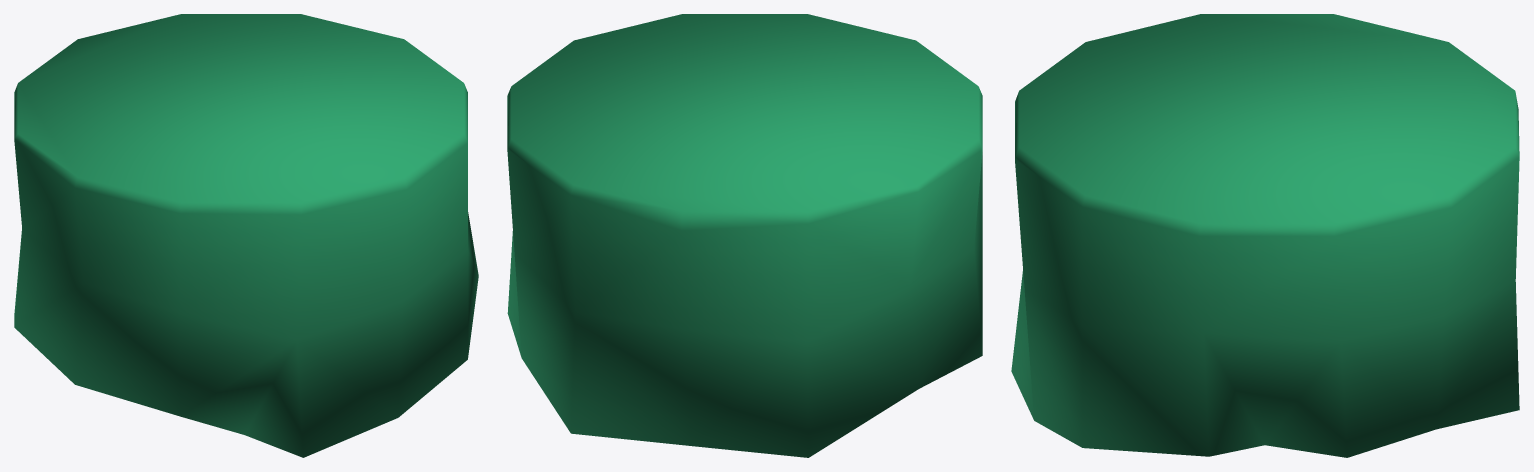
Rendered from SideTableRound_TableCloth.fbx.
3 renders of one model, left to right at view 1: azimuth 30°, elevation 25°; view 2: azimuth 150°, elevation 25°; view 3: azimuth 270°, elevation 25°, orthographic. The views are drawn at different scales.
Visible parts, largest first — view 1: SideTableRound_TableCloth; view 2: SideTableRound_TableCloth; view 3: SideTableRound_TableCloth.
Boxes of the visible parts, x1=… form: SideTableRound_TableCloth: x1=14, y1=14, x2=478, y2=457; SideTableRound_TableCloth: x1=507, y1=14, x2=982, y2=457; SideTableRound_TableCloth: x1=1011, y1=14, x2=1519, y2=457.
Bounding box in the file's own units: 45.64 × 27.01 × 44.25.
